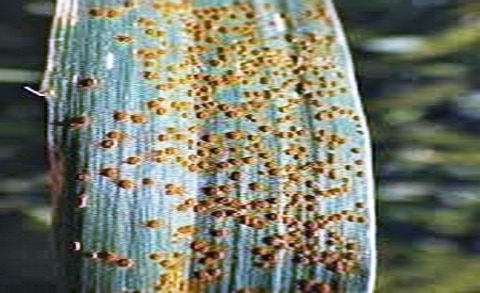Leaf Rust: (89, 5, 358, 293)
